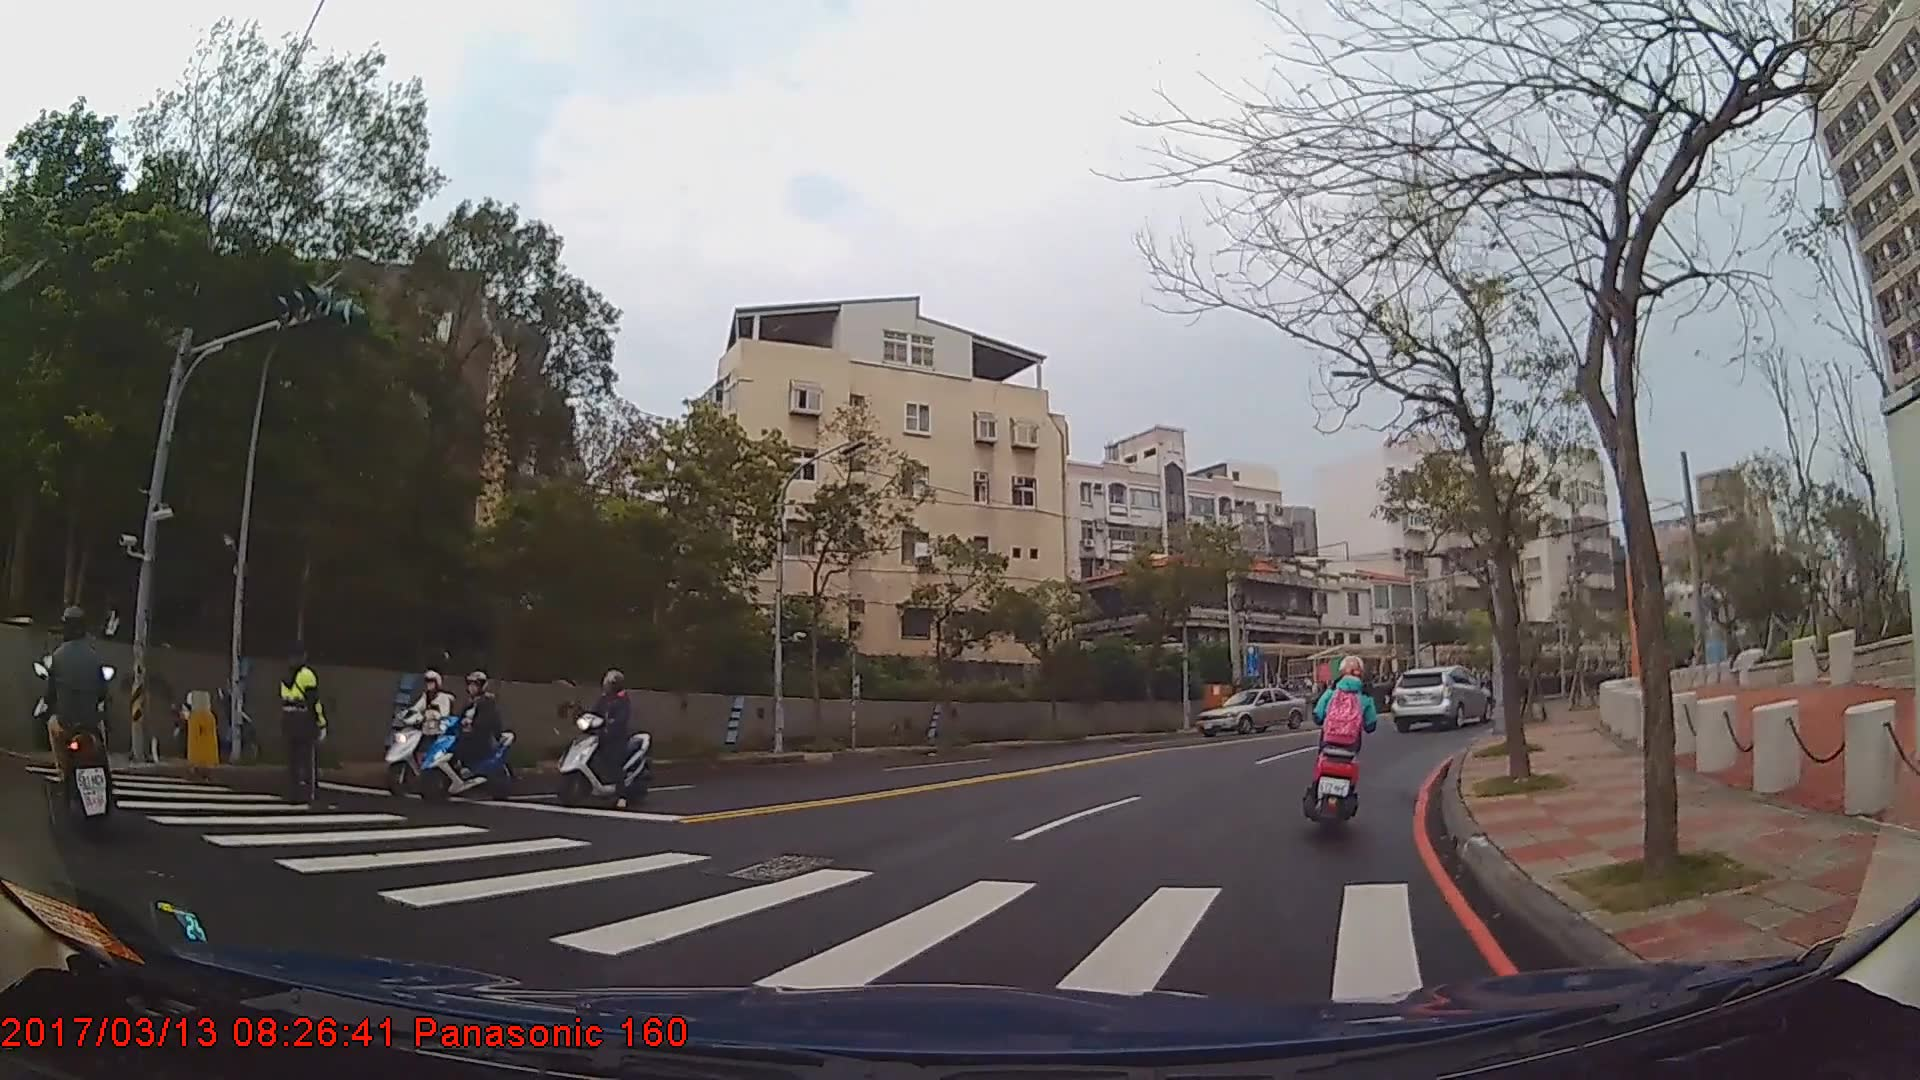pedestrian: (276, 637, 332, 802)
rider: (41, 602, 116, 832), (556, 671, 654, 808), (1306, 656, 1377, 823), (428, 668, 511, 797), (384, 666, 468, 789)
vehicle: (1384, 663, 1495, 728), (1195, 686, 1306, 738)
